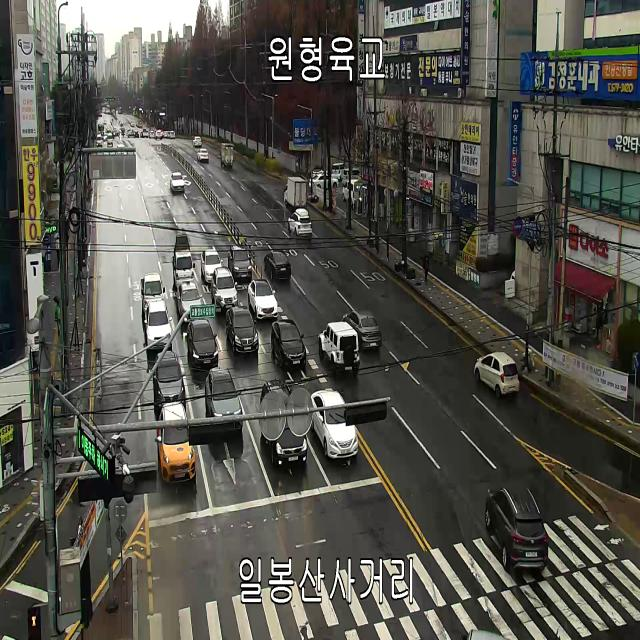Bus: (98, 123, 104, 135)
Car: (485, 487, 548, 571), (260, 379, 307, 467), (311, 390, 358, 459), (157, 403, 196, 483), (205, 367, 243, 430), (318, 322, 360, 374), (474, 352, 520, 397), (153, 351, 185, 410), (270, 319, 306, 369), (226, 306, 259, 353), (187, 319, 218, 368), (342, 310, 381, 348), (144, 300, 172, 352), (210, 266, 238, 314), (248, 278, 278, 320), (140, 272, 166, 313), (177, 281, 202, 323), (228, 245, 252, 281), (264, 250, 291, 280), (200, 248, 223, 282), (288, 208, 312, 238), (342, 179, 362, 206), (309, 173, 339, 188), (342, 169, 362, 186), (170, 172, 185, 192), (332, 162, 344, 182), (313, 167, 328, 179), (197, 148, 209, 162), (192, 136, 202, 148), (155, 130, 162, 140), (126, 129, 134, 137), (97, 135, 102, 147), (149, 131, 155, 139), (170, 131, 175, 139), (143, 130, 148, 138), (134, 130, 139, 138), (104, 133, 108, 142), (164, 130, 167, 138), (167, 132, 170, 138), (122, 128, 125, 134), (104, 120, 106, 125)
Truck: (172, 234, 195, 287), (284, 176, 306, 208), (220, 144, 233, 168), (107, 133, 113, 147)
